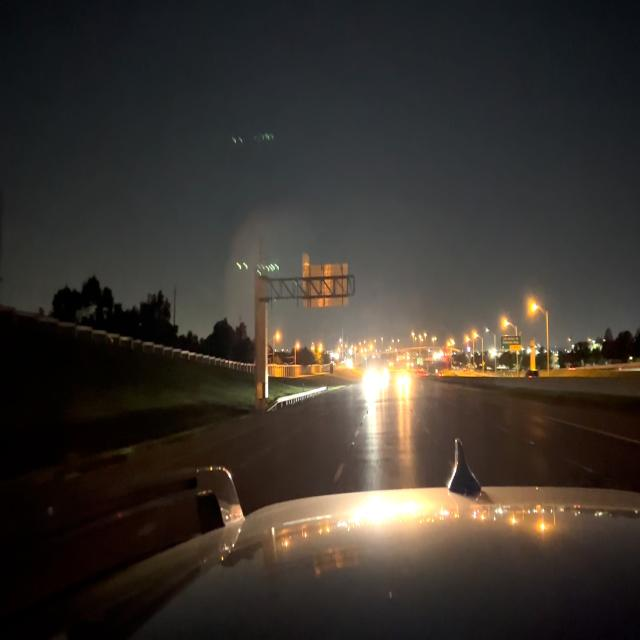back-of-sign: (302, 255, 348, 304)
